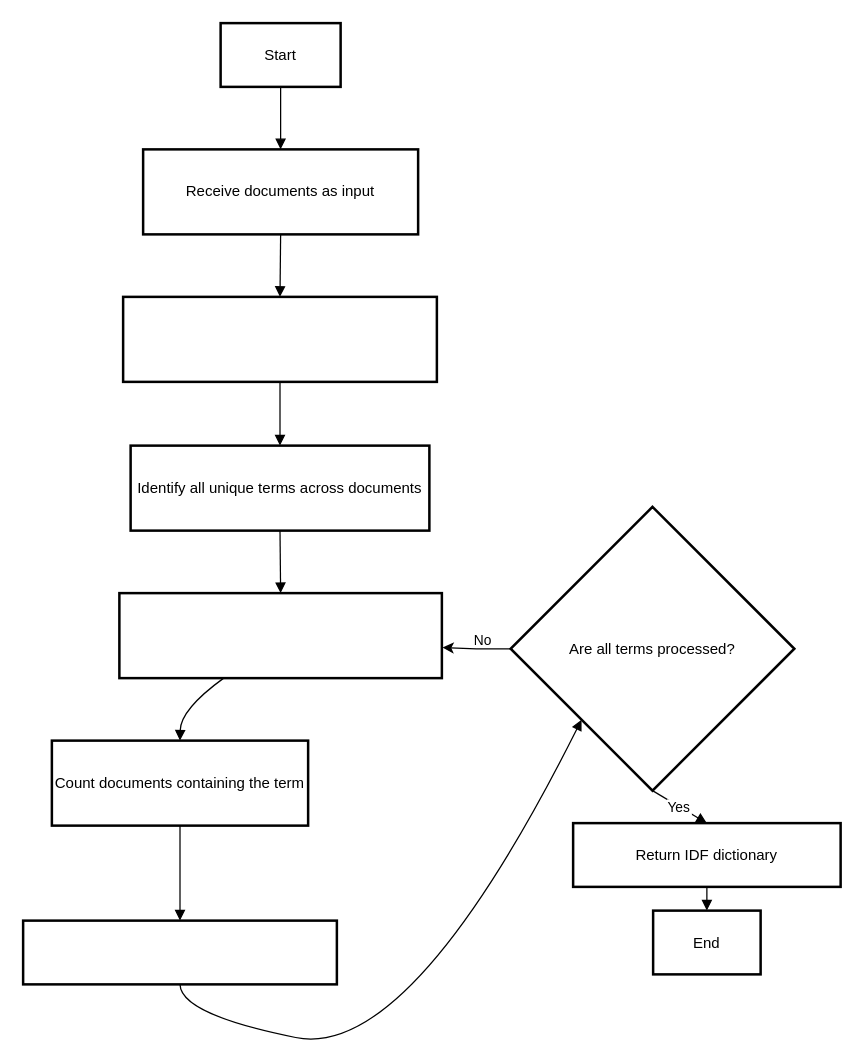
The diagram is 863 pixels wide and 1061 high, and some of its shapes have lost their labels. The shapes that lost their labels are listed below. From the top down, each one's centre as x and y in pixels, then its label:
the point at 279,338: Initialize total_documents as number of documents
the point at 280,635: For each term in all unique terms
the point at 179,952: Calculate IDF for the term
